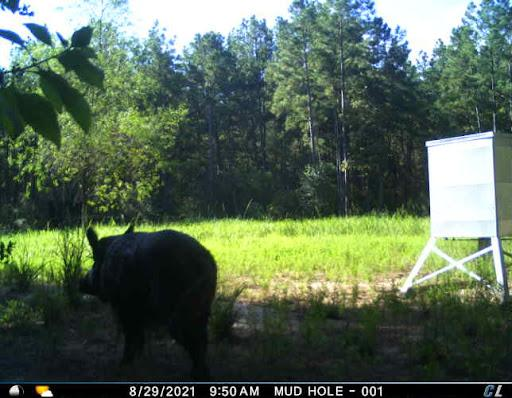Hog: (78, 220, 225, 383)
